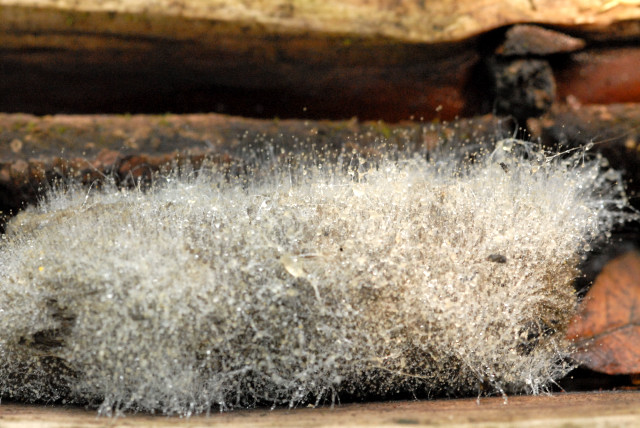Mucor: (35, 173, 263, 421), (484, 123, 616, 212), (287, 246, 398, 343), (439, 250, 527, 326)
